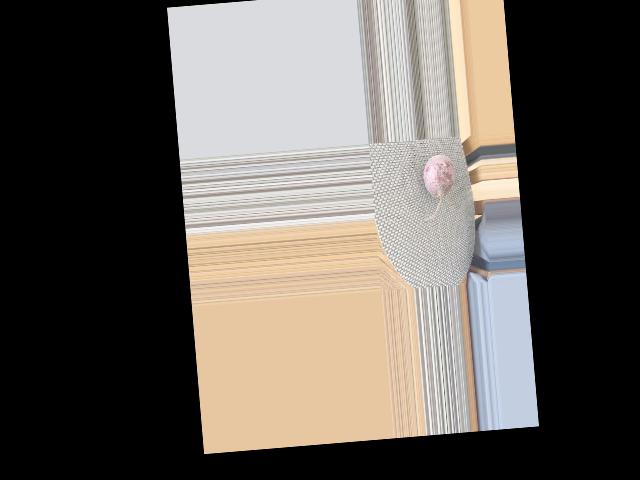beet: (418, 153, 459, 220)
